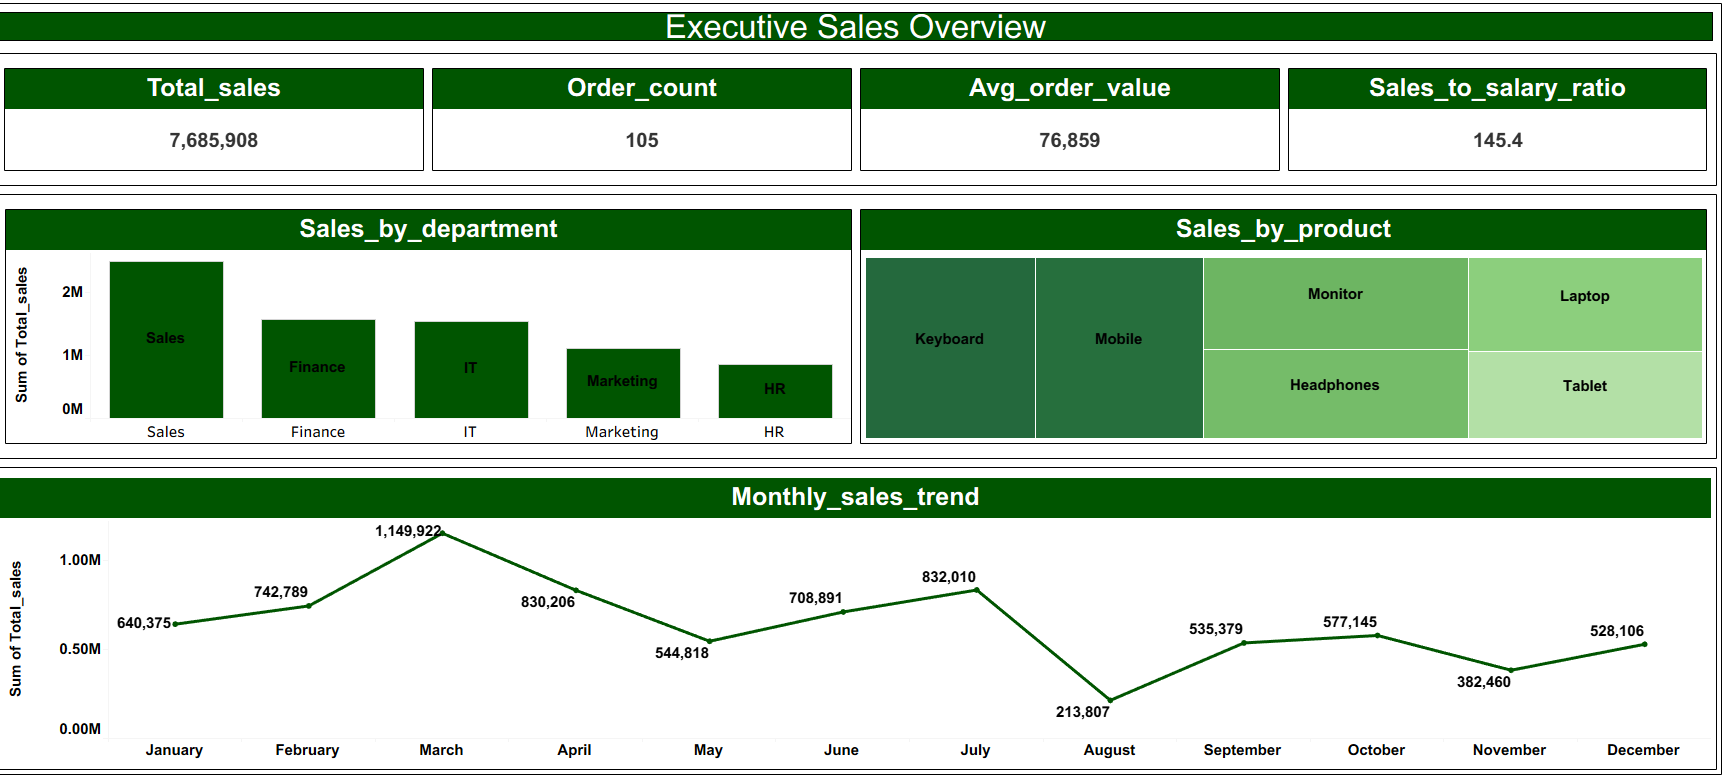

What the dashboard file says about the page in this screenshot:
{"tool":"tableau","page":{"name":"Executive sales overview","canvas":[1000,1000],"units":"permille","ordinal":0},"visuals":[{"type":"worksheet","title":"Total_sales","mark":"Automatic","box":[0.6,86.1,226.3,138.6]},{"type":"worksheet","title":"Order_count","mark":"Automatic","box":[226.9,86.1,226.3,138.6]},{"type":"worksheet","title":"Avg_order_value","mark":"Automatic","box":[453.2,86.1,226.3,138.6]},{"type":"worksheet","title":"Sales_to_salary_ratio","mark":"Automatic","box":[679.5,86.1,225.7,138.6]},{"type":"worksheet","title":"Sales_by_department","mark":"Automatic","rows":["Calculation_2259399662422097920"],"cols":["department"],"box":[1.2,262.2,452,303.4]},{"type":"worksheet","title":"Sales_by_product","mark":"Automatic","box":[453.2,262.2,452,303.4]}]}

Visuals, with their boxes on the dashboard's canvas, which has no fixed pixel size, in thousandths of its width and height (x1, y1, x2, y2). These are canvas units, not pixel positions in the 1722x776 screenshot, which may show the page scaled, cropped or inside an application window:
"Total_sales" worksheet: pyautogui.locateOnScreen(1, 86, 227, 225)
"Order_count" worksheet: pyautogui.locateOnScreen(227, 86, 453, 225)
"Avg_order_value" worksheet: pyautogui.locateOnScreen(453, 86, 680, 225)
"Sales_to_salary_ratio" worksheet: pyautogui.locateOnScreen(680, 86, 905, 225)
"Sales_by_department" worksheet: pyautogui.locateOnScreen(1, 262, 453, 566)
"Sales_by_product" worksheet: pyautogui.locateOnScreen(453, 262, 905, 566)
